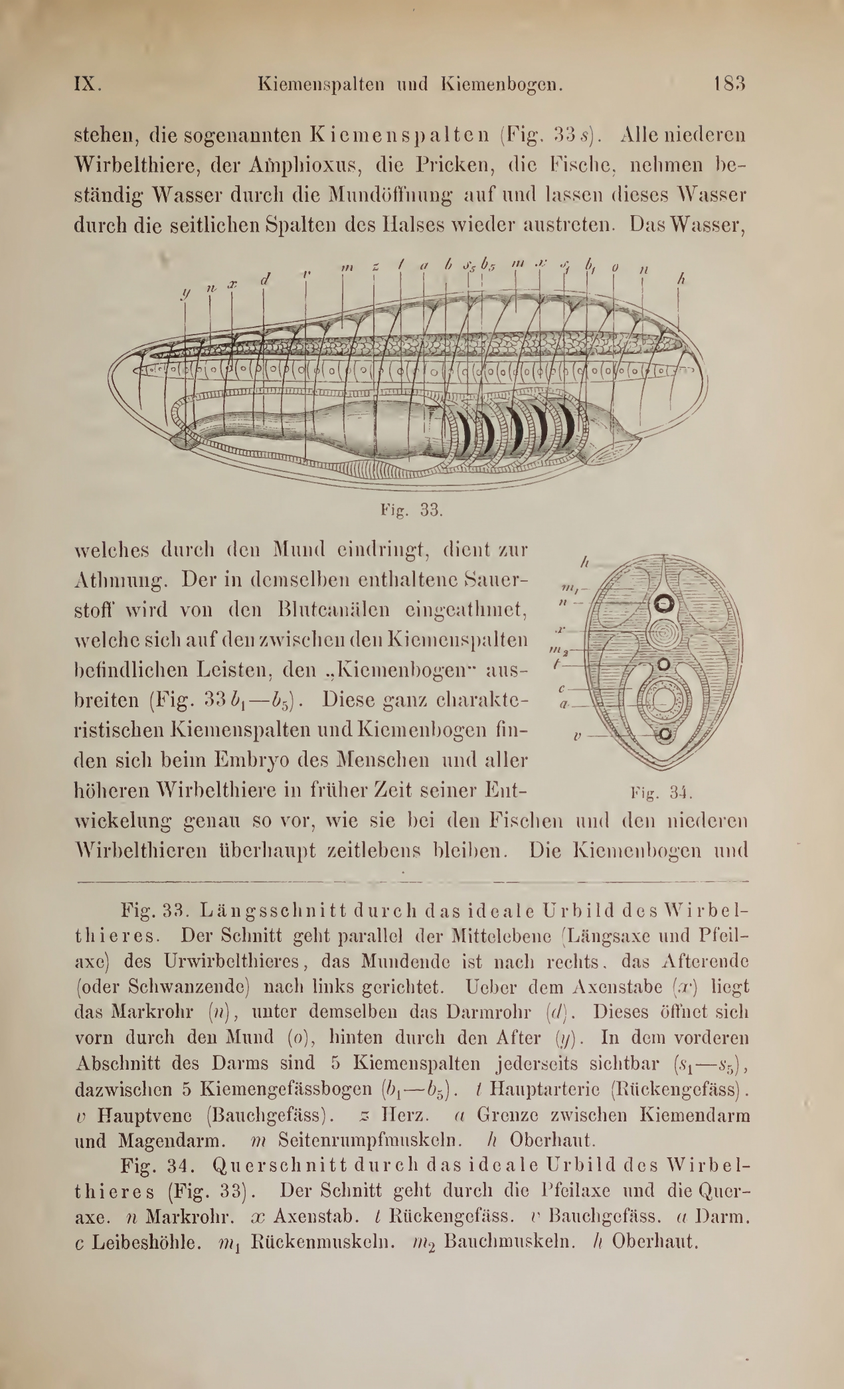GraphicZone_Description: (366, 490, 451, 527), (614, 776, 705, 810)
GraphicZone_Illustration: (91, 245, 734, 497), (541, 538, 761, 771)
MainZone: (57, 523, 770, 872), (50, 113, 772, 254)
MarginTextZone note: (52, 886, 772, 1263)
NumberingZone chapter: (66, 60, 109, 106)
NumberingZone_page: (704, 63, 756, 102)
RunningTitleZone: (246, 63, 575, 104)
